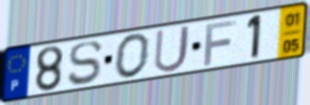1: (245, 12, 265, 61)
8: (34, 45, 65, 93)
F: (202, 18, 239, 67)
O: (114, 31, 153, 80)
S: (66, 39, 105, 88)
U: (152, 23, 193, 74)
